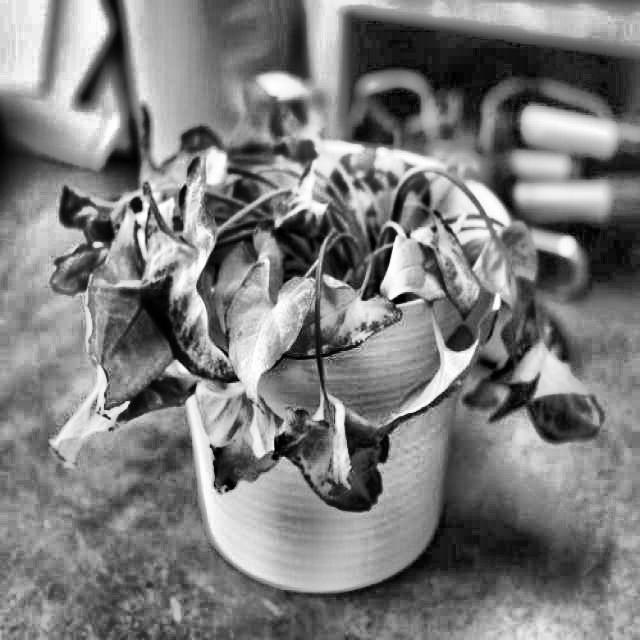plants: (46, 86, 608, 500)
